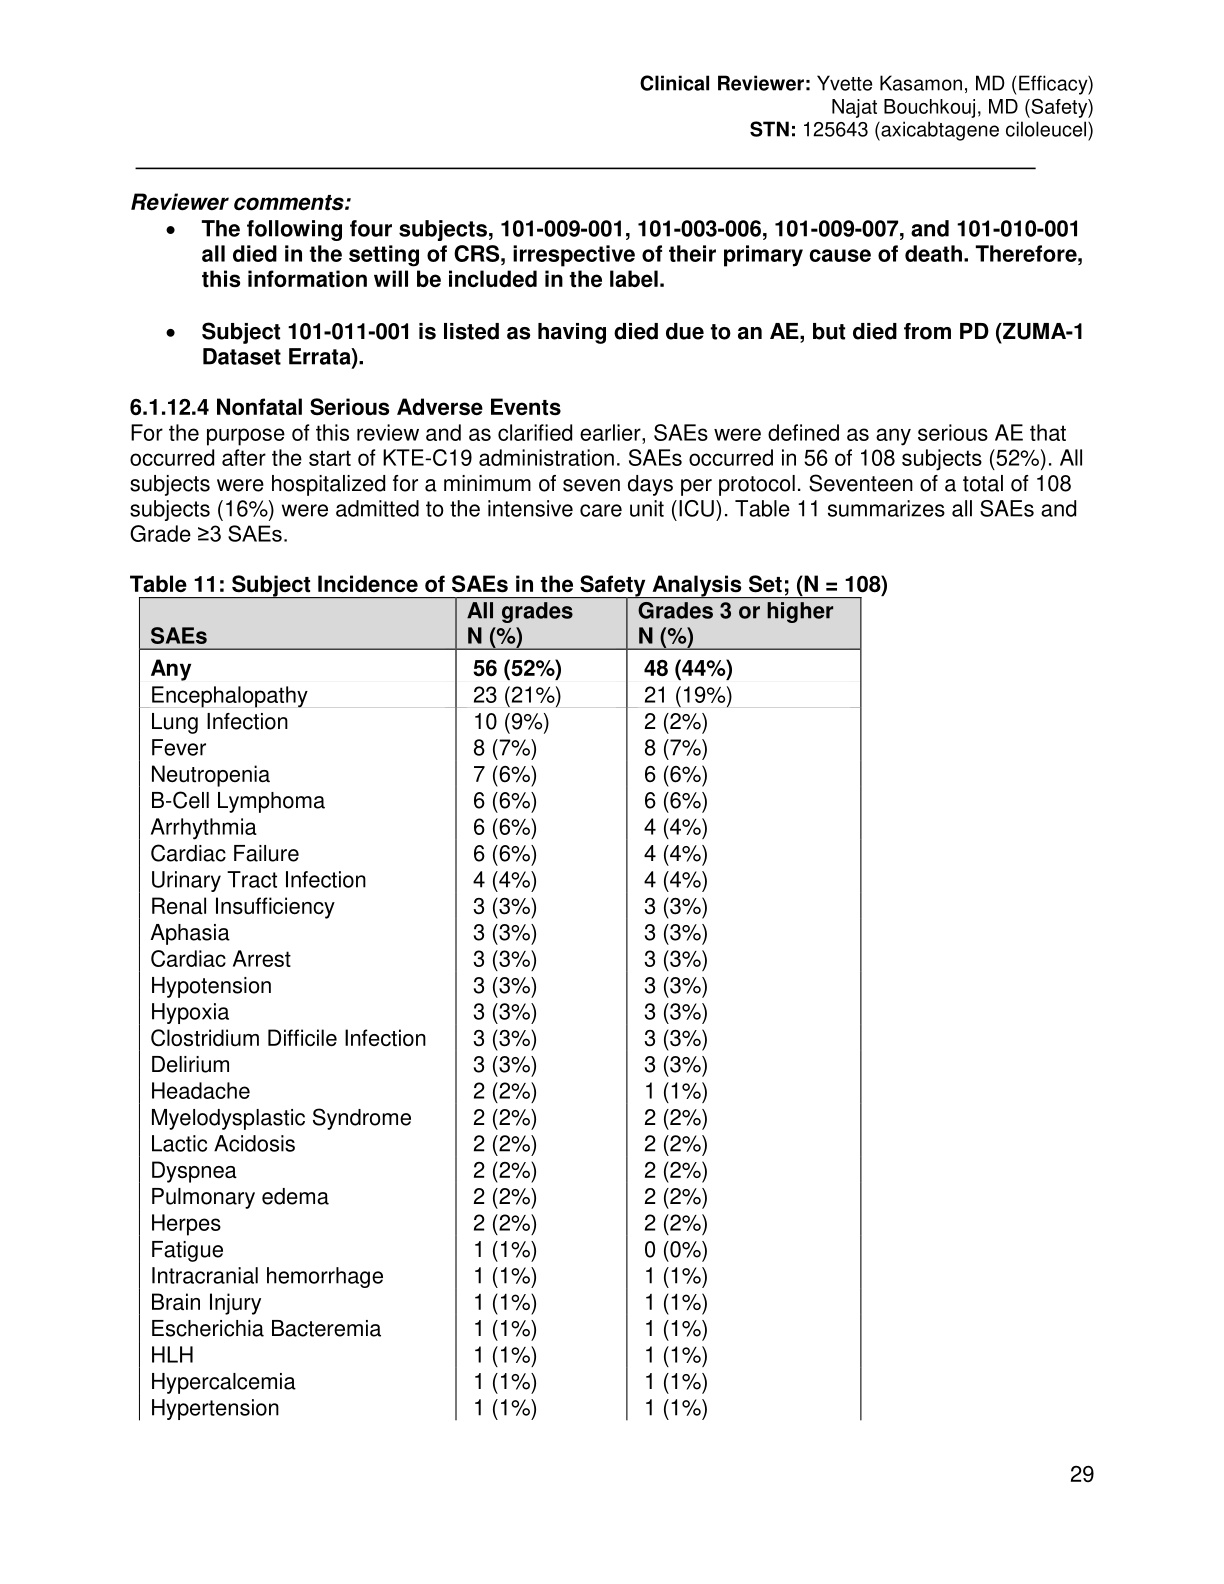partial_lined: (138, 595, 861, 1434)
